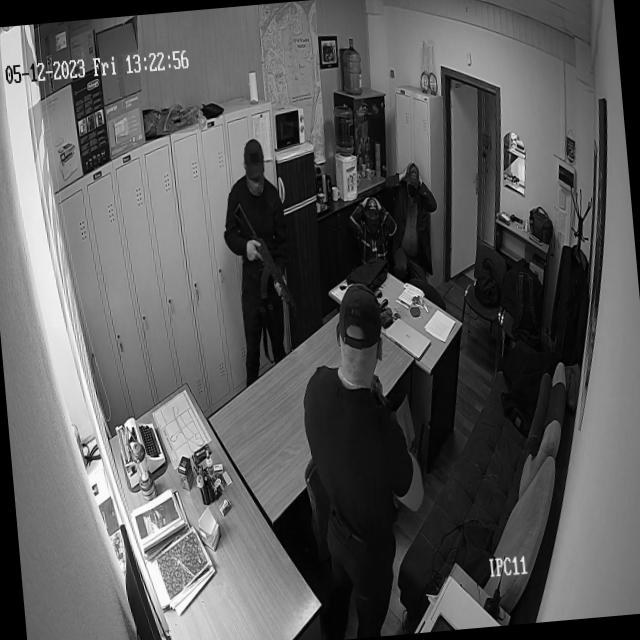gun: (232, 196, 302, 326)
person: (292, 278, 428, 558), (381, 158, 444, 284), (348, 190, 401, 259)
person with a gun: (215, 134, 305, 344)
